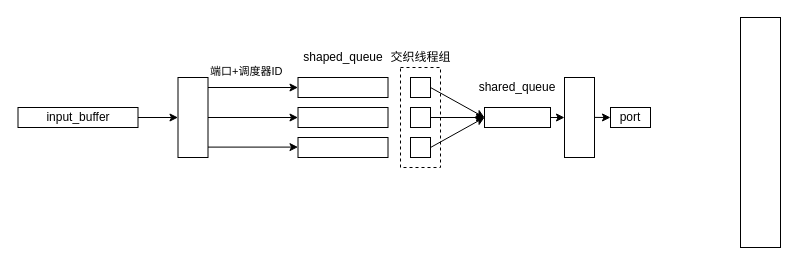
This 798x265 diagram has some shape labels left out. The shapes that lost their labels are listed below. From the top down, each one's centre as x and y in pixels, then its label:
At (x=192, y=117): "输入线程".
At (x=579, y=117): "发送线程".
